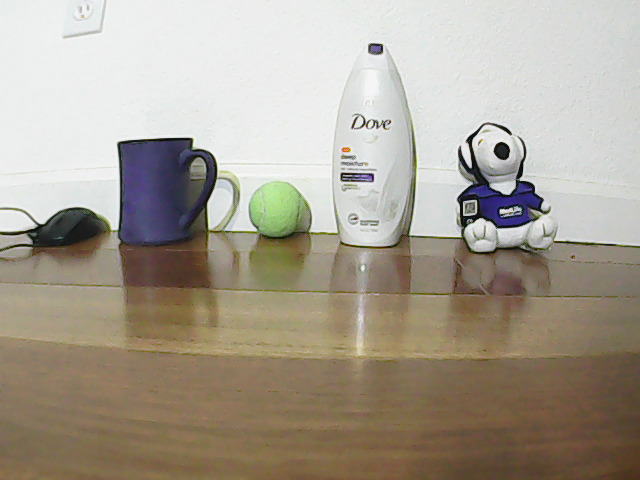ball: (241, 173, 312, 237)
mouse: (23, 189, 101, 247)
mug: (113, 135, 221, 255)
snoopy: (461, 132, 557, 250)
soap: (347, 40, 415, 245)
